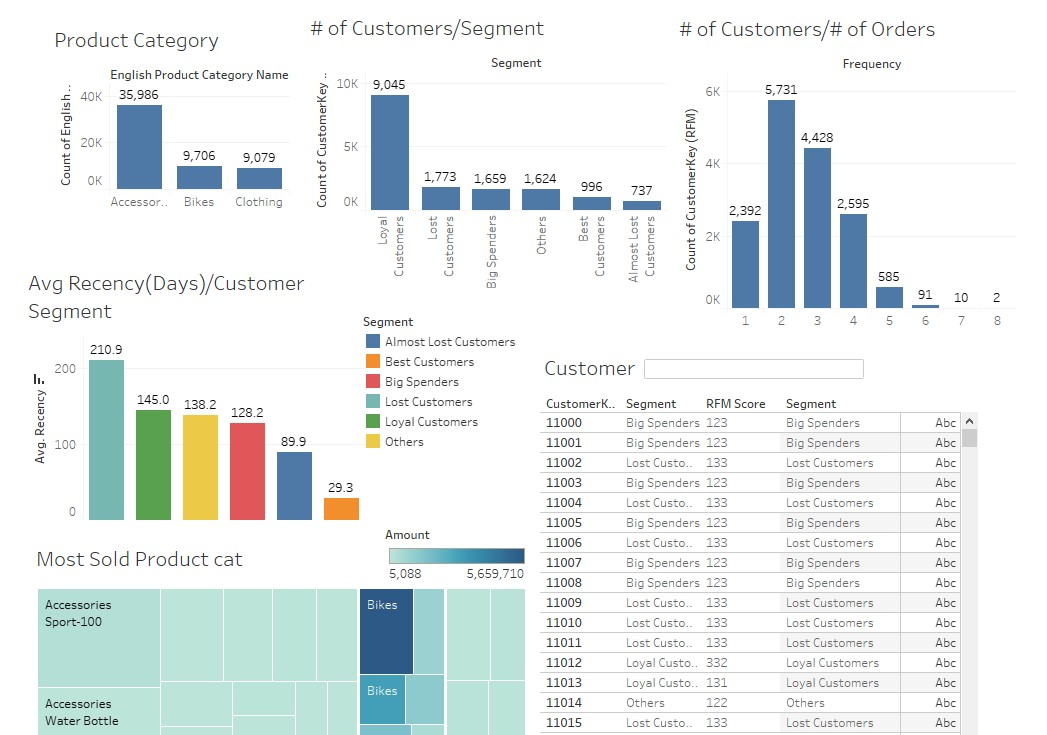

What the dashboard file says about the page in this screenshot:
{"tool":"tableau","page":{"name":"Dashboard 1","canvas":[1024,768],"ordinal":0},"visuals":[{"type":"worksheet","title":"# of Customers/Segment","mark":"Automatic","rows":["CustomerKey (RFM)"],"cols":["segment"],"box":[286,9,361,281]},{"type":"worksheet","title":"# of Customers/# of Orders","mark":"Automatic","rows":["CustomerKey (RFM)"],"cols":["LineNumber (RFM)"],"box":[655.4,9.6,341,318.7]},{"type":"worksheet","title":"Product Category","mark":"Automatic","rows":["EnglishProductCategoryName"],"cols":["EnglishProductCategoryName"],"box":[29.7,21.1,341,189.1]},{"type":"worksheet","title":"Avg Recency(Days)/Customer Segment","mark":"Automatic","rows":["Recency"],"cols":["segment"],"box":[4,264,341,256]},{"type":"worksheet","title":"Avg Recency(Days)/Customer Segment","mark":"Automatic","rows":["Recency"],"cols":["segment"],"param":"[federated.0ukg9g21mua77h1ae161j1le436k].[none:segment:nk]","box":[343,313,161,163]},{"type":"worksheet","title":"Customer","mark":"Automatic","rows":["CustomerKey (RFM)","segment","RFM_Score","segment"],"box":[520.2,349.4,438.3,412.8]},{"type":"worksheet","title":"Customer","mark":"Automatic","rows":["CustomerKey (RFM)","segment","RFM_Score","segment"],"param":"[federated.0ukg9g21mua77h1ae161j1le436k].[none:CustomerKey (RFM):ok]","box":[620.5,359,226.3,24]},{"type":"worksheet","title":"Most Sold Product cat","mark":"Automatic","param":"[federated.0ukg9g21mua77h1ae161j1le436k].[sum:Amount:qk]","box":[365,526,144,73]}]}

Visuals, with their boxes on the page's 1024x768 design canvas (x1, y1, x2, y2). These are canvas units, not pixel positions in the 1047x735 screenshot, which may show the page scaled, cropped or inside an application window:
"# of Customers/Segment" worksheet: l=286, t=9, r=647, b=290
"# of Customers/# of Orders" worksheet: l=655, t=10, r=996, b=328
"Product Category" worksheet: l=30, t=21, r=371, b=210
"Avg Recency(Days)/Customer Segment" worksheet: l=4, t=264, r=345, b=520
"Avg Recency(Days)/Customer Segment" worksheet: l=343, t=313, r=504, b=476
"Customer" worksheet: l=520, t=349, r=958, b=762
"Customer" worksheet: l=620, t=359, r=847, b=383
"Most Sold Product cat" worksheet: l=365, t=526, r=509, b=599
